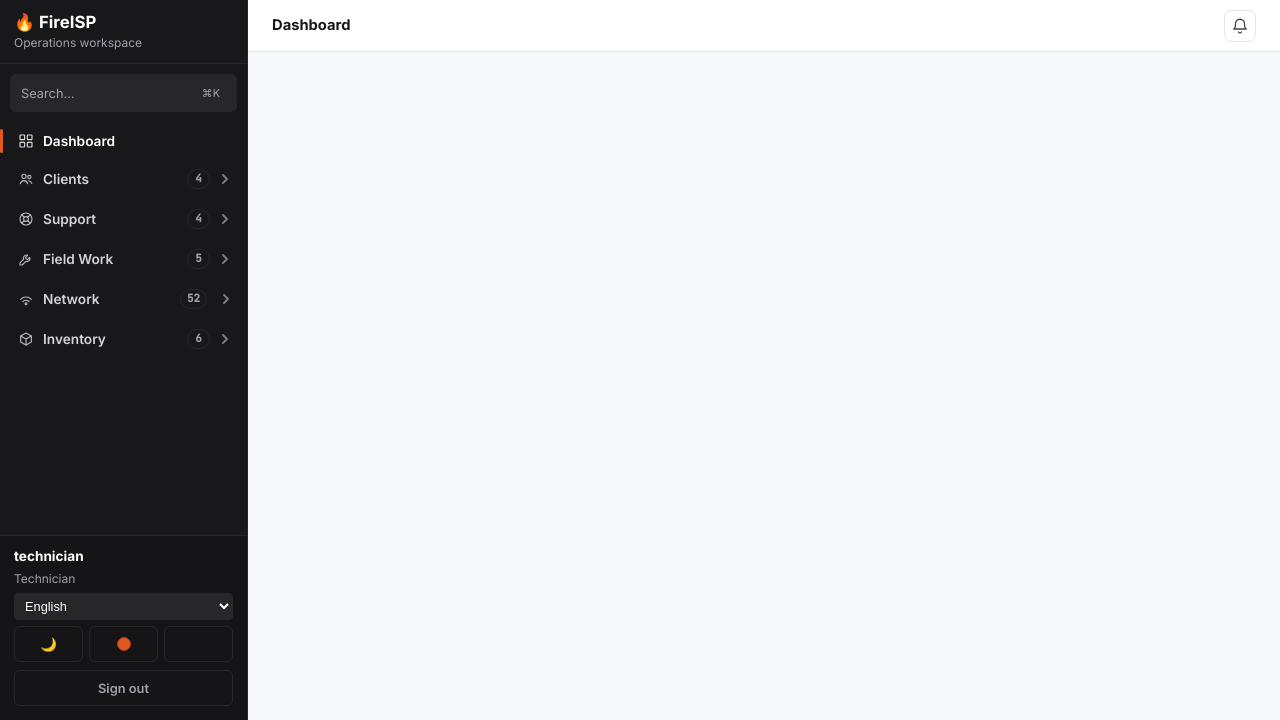
Test: Layout — grouped sidebar navigation › hub sections collapse again via the chevron after being opened (regression)
This screenshot has width=1280, height=720.
// Label click on a hub header expands the section (and navigates to the hub).
Click the text "Network" at (71, 299), box x1=43 y1=291 x2=100 y2=307
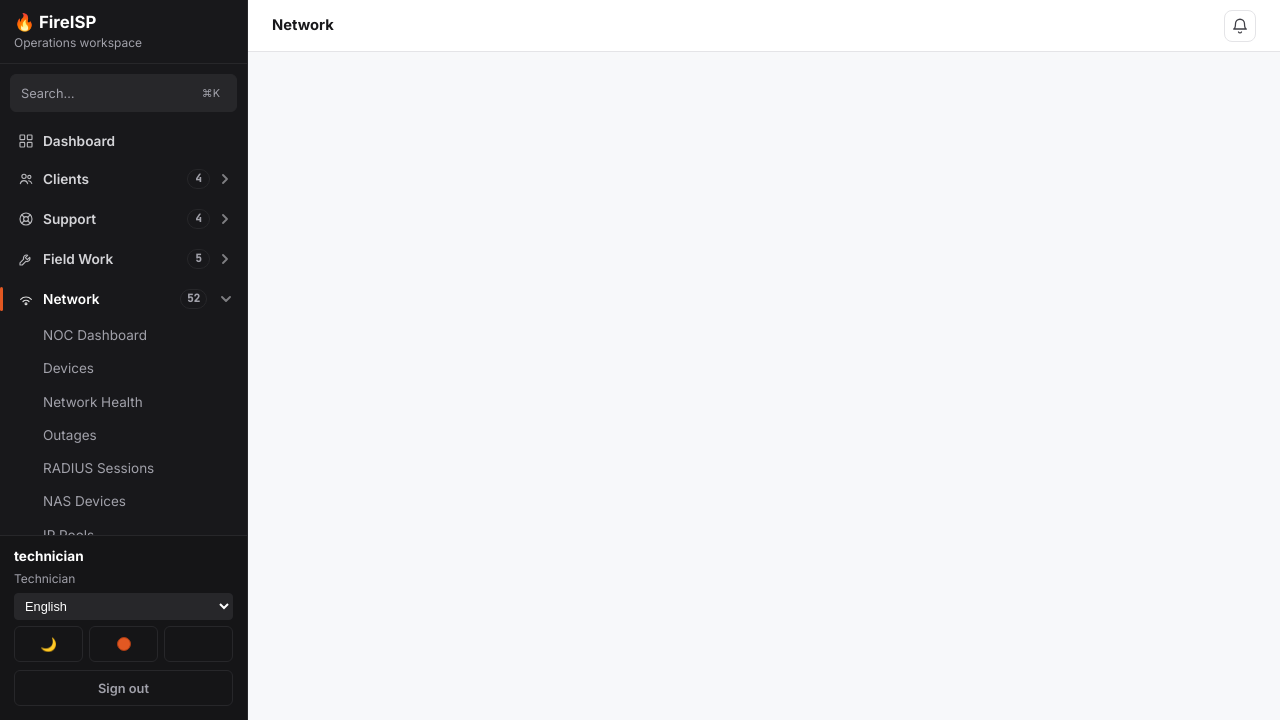
expect the link "NAS Devices" is shown: met, box x1=43 y1=493 x2=126 y2=509
// The chevron is a separate toggle — an opened hub must collapse again.
Click the button named "Expand or collapse Network" at (226, 299), box x1=211 y1=281 x2=241 y2=317
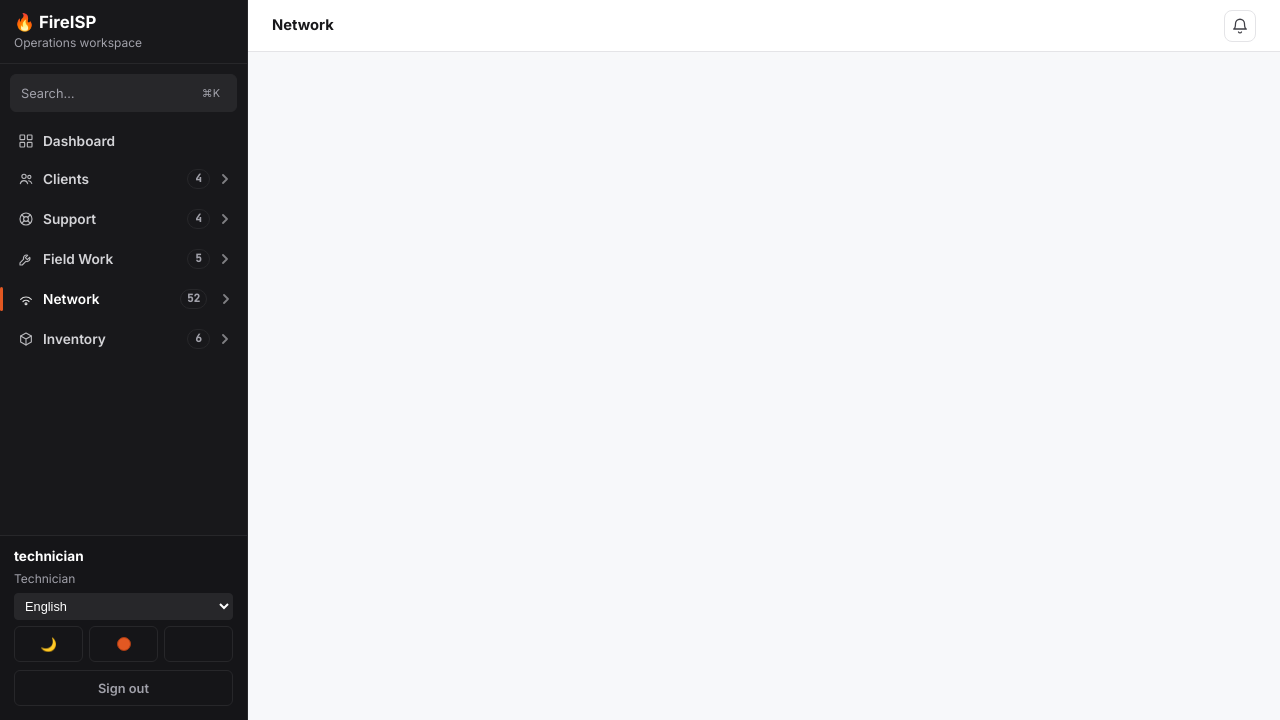
expect the link "NAS Devices" is gone: met
Click the button named "Expand or collapse Network" at (226, 299), box x1=211 y1=281 x2=241 y2=317
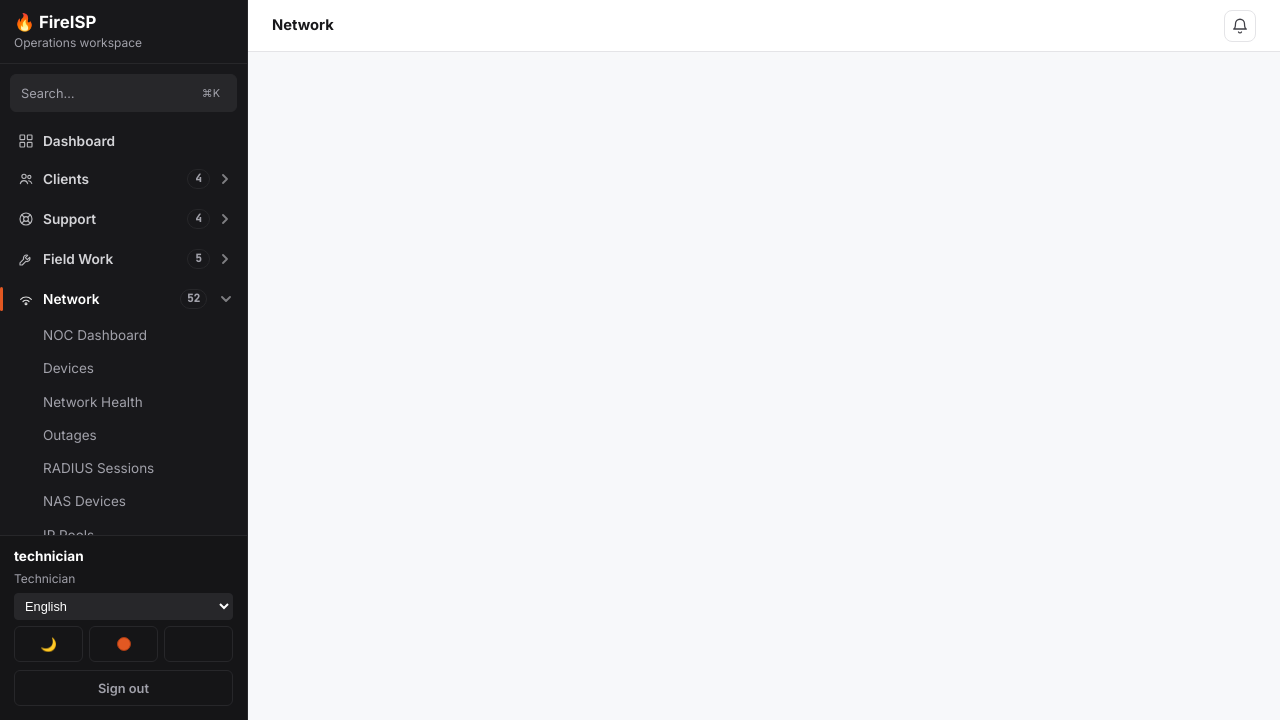
expect the link "NAS Devices" is shown: met, box x1=43 y1=493 x2=126 y2=509
